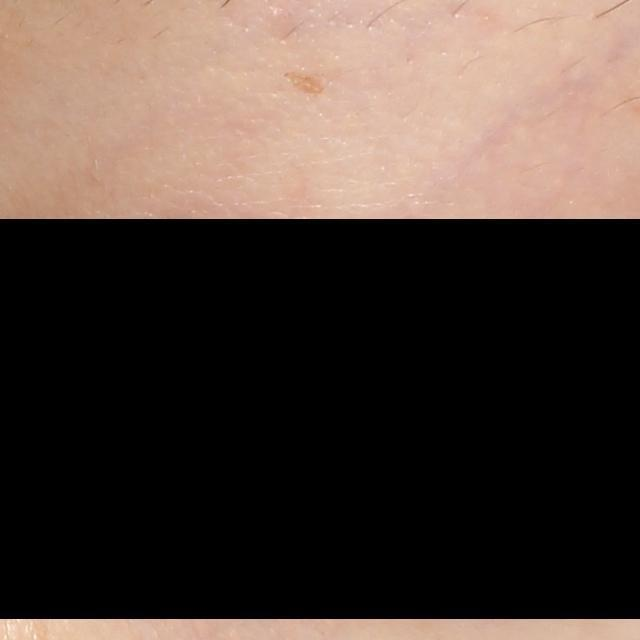melasma: (282, 68, 328, 97)
